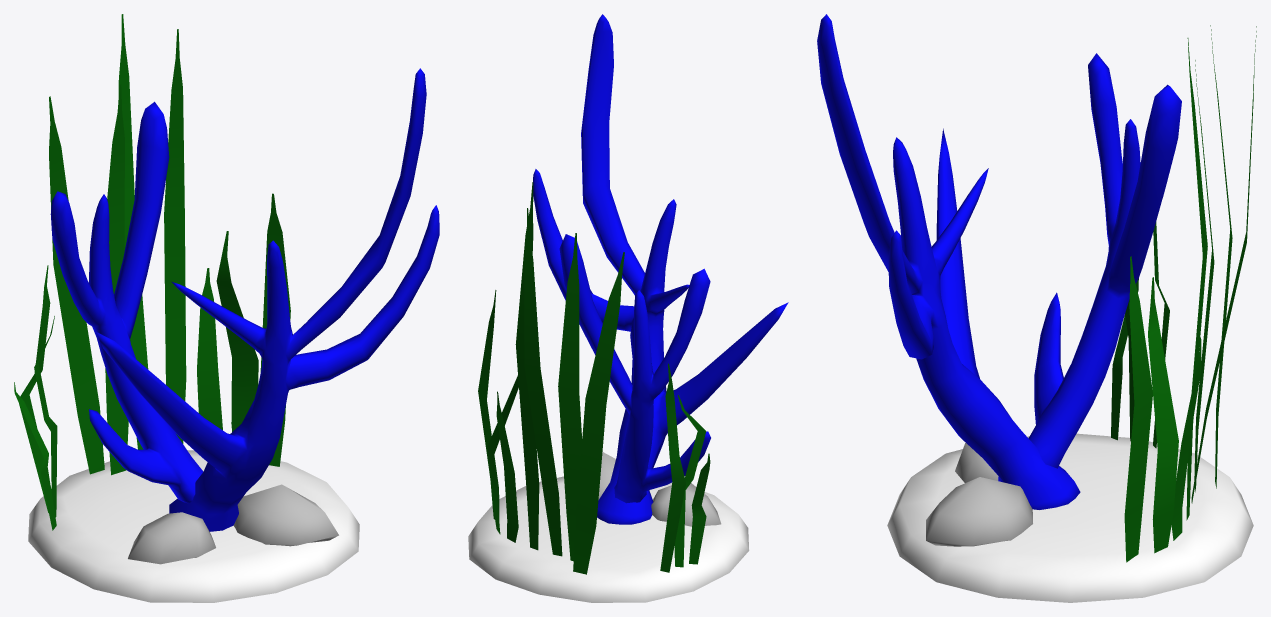
Rendered from stag coral low.fbx.
The picture shows the model from 3 angles, left to right: view 1: azimuth 30°, elevation 25°; view 2: azimuth 150°, elevation 25°; view 3: azimuth 270°, elevation 25°; orthographic projection. The views are drawn at different scales.
Visible parts, largest first — view 1: staghorn_low; view 2: staghorn_low; view 3: staghorn_low.
Part boxes in pixels (<box>): staghorn_low: <box>14,14,439,602</box>; staghorn_low: <box>468,14,788,602</box>; staghorn_low: <box>817,14,1256,602</box>.
Size of the model in its own units: 70.72 by 108 by 75.07.
